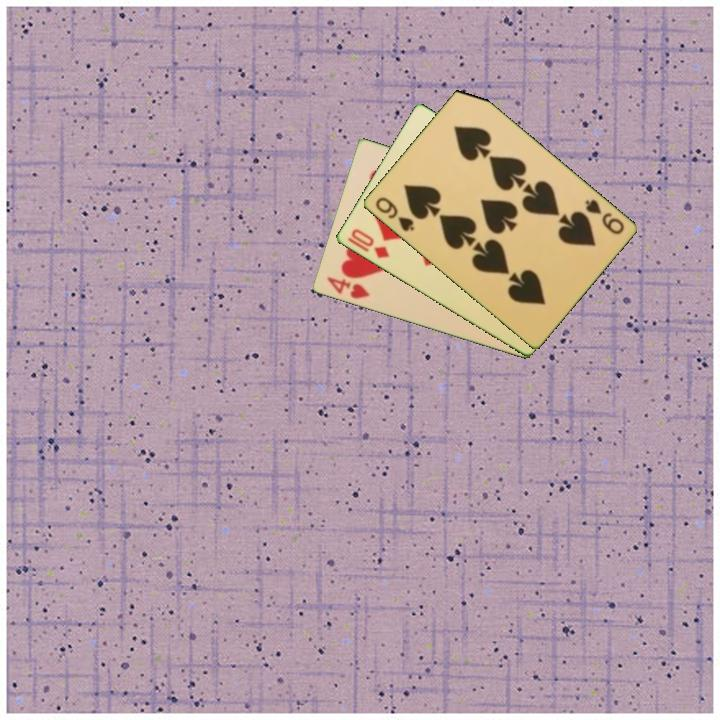10d: (347, 225, 392, 261)
4h: (323, 274, 372, 302)
9s: (371, 193, 417, 235), (581, 196, 627, 238)
